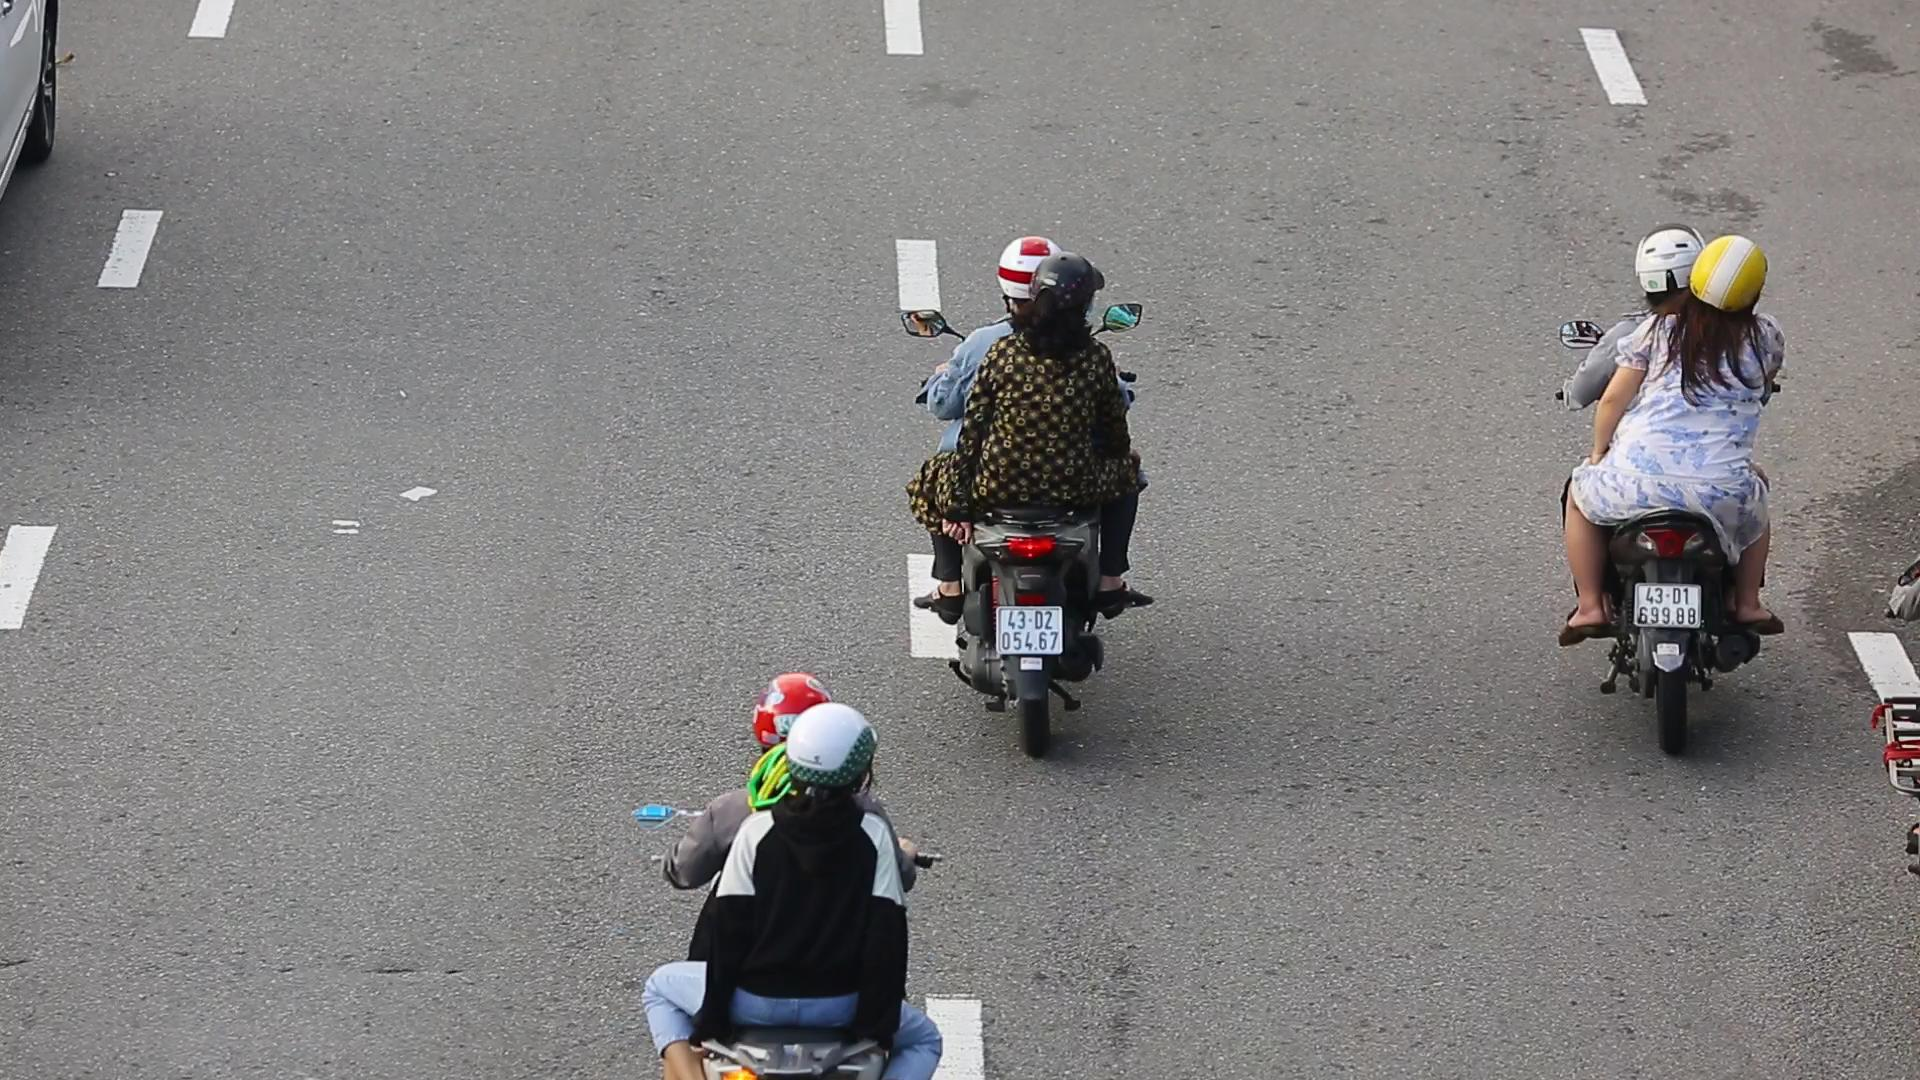motobike: (898, 220, 1153, 769), (1543, 223, 1799, 765)
